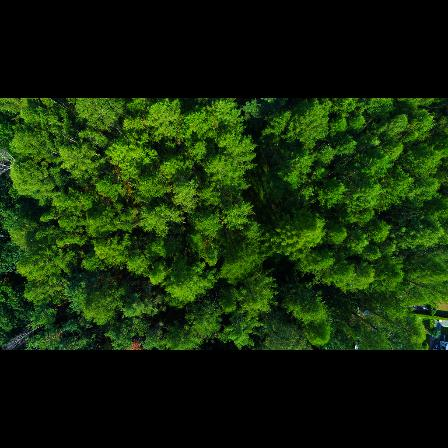Dead: (0, 320, 41, 350)
